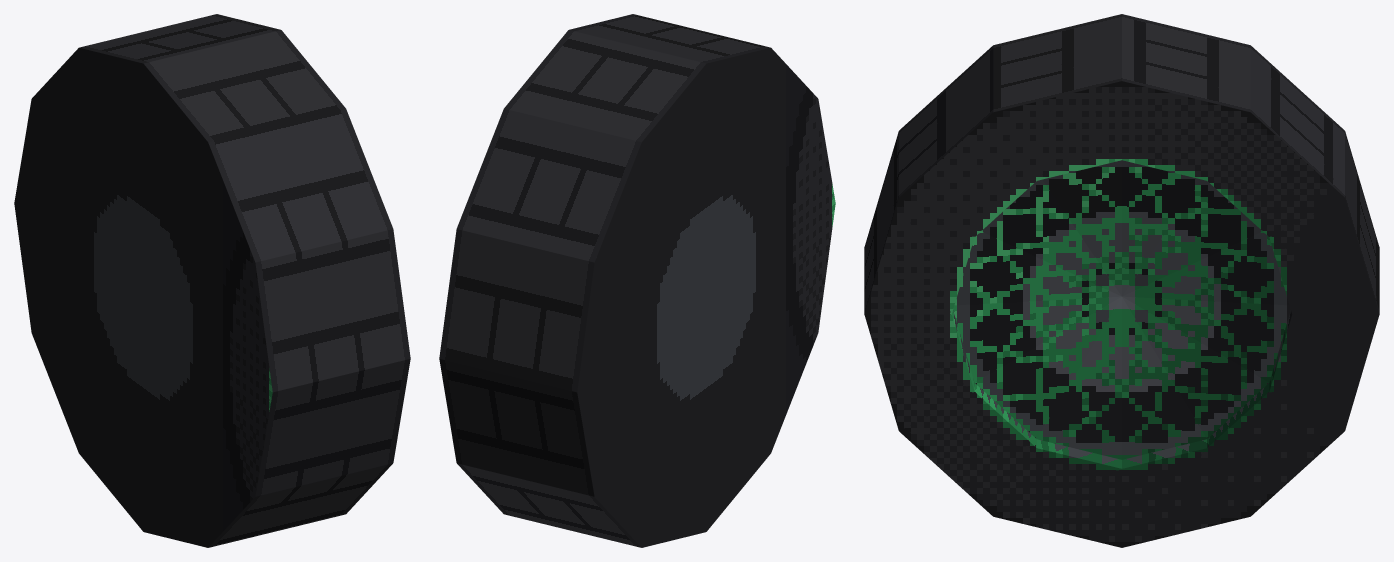
File: wheel_mesh.glb
3 views of the same model, side by side, from view 1: azimuth 30°, elevation 25°; view 2: azimuth 150°, elevation 25°; view 3: azimuth 270°, elevation 25° (orthographic).
Visible parts, largest first — view 1: wheel_mesh; view 2: wheel_mesh; view 3: wheel_mesh.
Boxes of the visible parts, left/top/right/bottom form: wheel_mesh: left=14, top=14, right=410, bottom=547; wheel_mesh: left=439, top=14, right=835, bottom=547; wheel_mesh: left=864, top=14, right=1379, bottom=547.
Size of the model in its own units: 0.225 by 0.7301 by 0.7301.
1 material, 1 textured.
